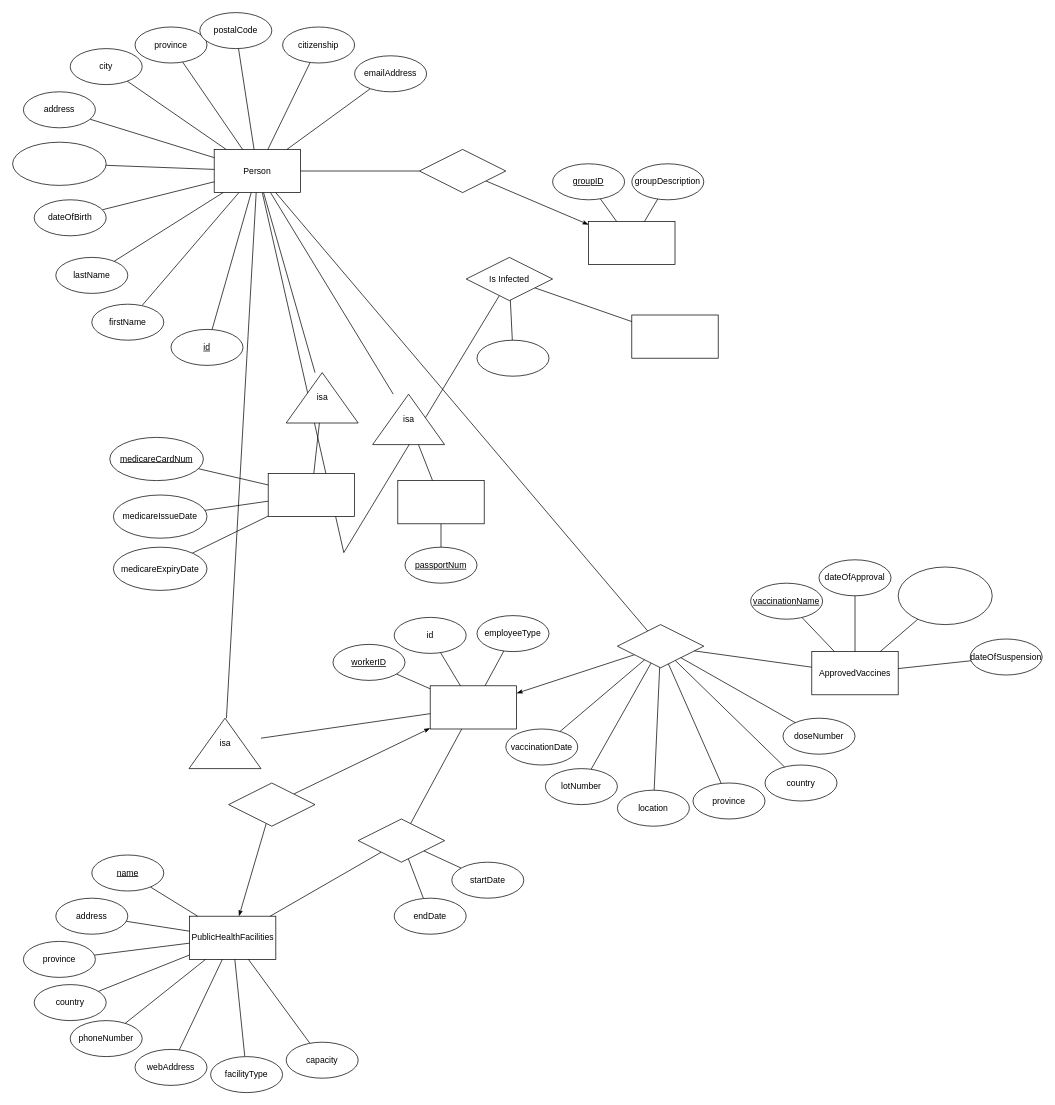
The diagram is 1055 pixels wide and 1105 high, and some of its shapes have lost their labels. Each missing label, with the centre of its shape:
AgeGroups: the point at 631,243
AssignedTo: the point at 401,840
Has A: the point at 462,171
HealthWorker: the point at 473,707
infectionDate: the point at 512,357
InfectionHistory: the point at 674,336
Manages: the point at 271,804
Registered: the point at 311,495
telephoneNumber: the point at 59,163
Unregistered: the point at 440,502
Vaccinations: the point at 660,646
vaccinationType (SAFE/SUSPENDED): the point at 944,595
